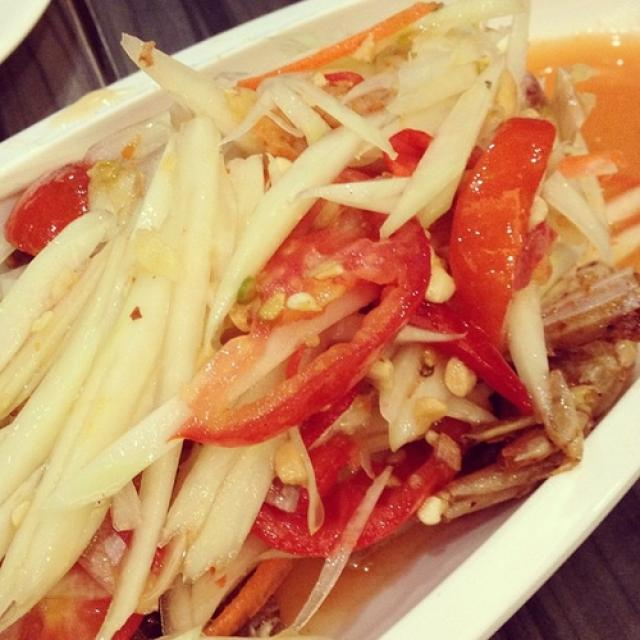蔬菜料理: (13, 10, 635, 608)
